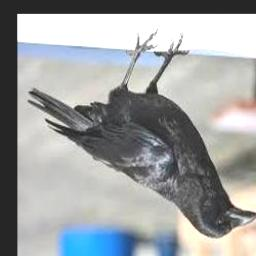Crow: (29, 33, 256, 240)
